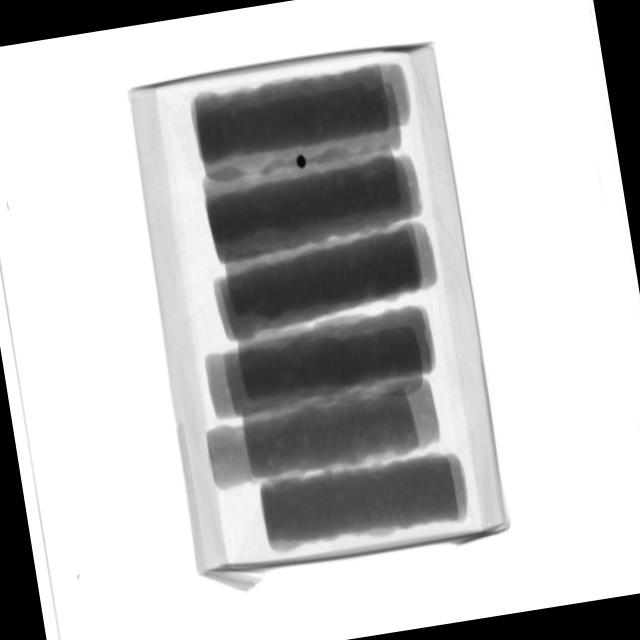ym: (296, 155, 308, 172)
